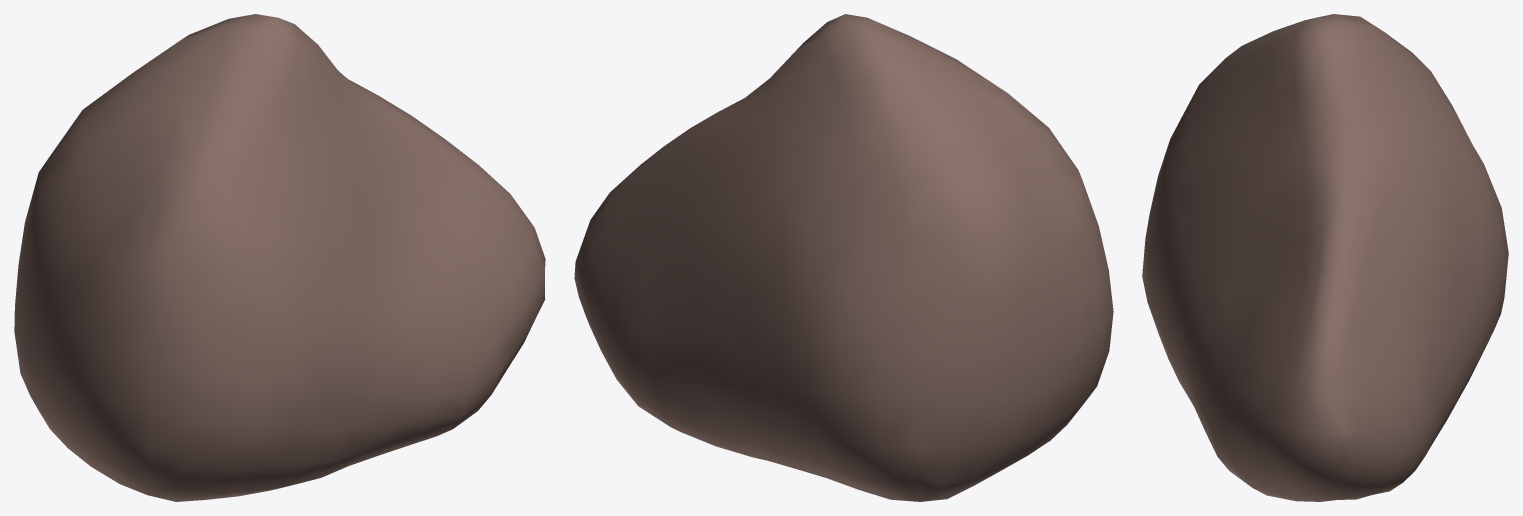
The model's file is Mineral_0_low.fbx.
3 renders of one model, left to right at view 1: azimuth 30°, elevation 25°; view 2: azimuth 150°, elevation 25°; view 3: azimuth 270°, elevation 25°, orthographic. The views are drawn at different scales.
Parts seen in each view (by area): view 1: Mineral_gh; view 2: Mineral_gh; view 3: Mineral_gh.
Boxes of the visible parts, box(x1,y1,x2,y2) form: Mineral_gh: box(14, 14, 545, 501); Mineral_gh: box(574, 14, 1113, 501); Mineral_gh: box(1142, 14, 1508, 501).
Bounding box in the file's own units: 19.5 × 16.22 × 13.42.
